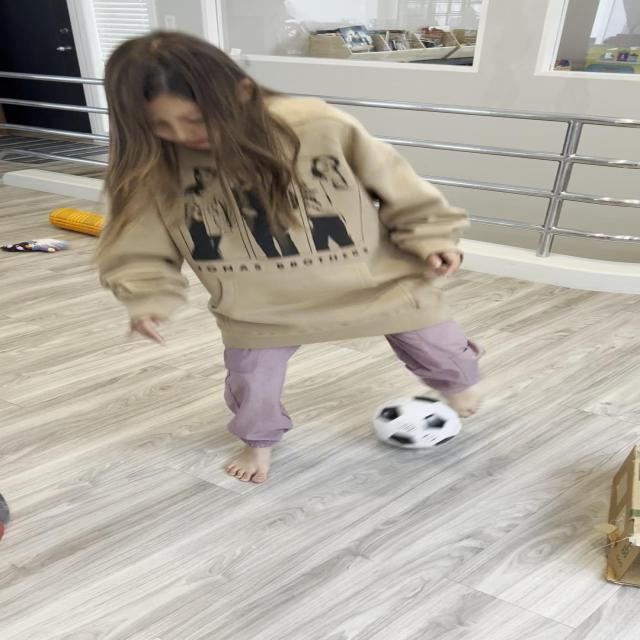Soccer Ball: (372, 395, 463, 449)
